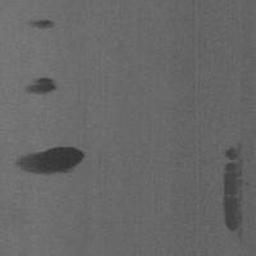Oil spot: (221, 140, 252, 244), (12, 145, 87, 177), (23, 76, 59, 96), (26, 18, 55, 31)
